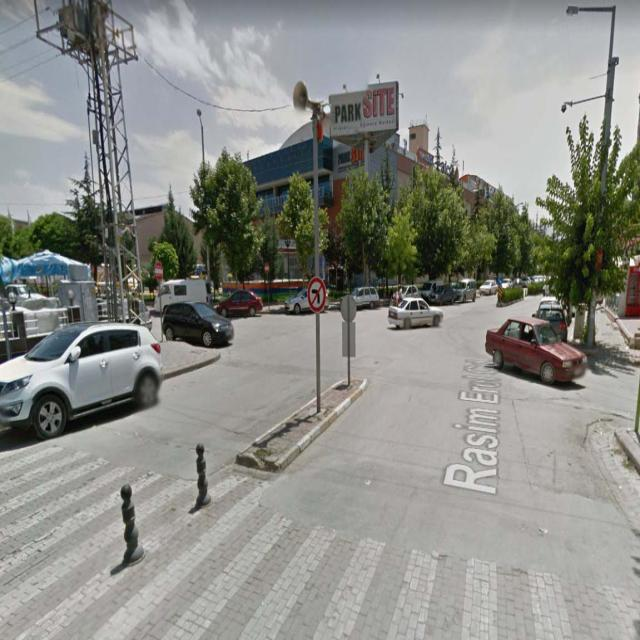girisyok: (154, 261, 166, 283), (264, 262, 270, 274)
soladonulmez: (310, 278, 326, 310)
